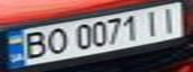0: (72, 21, 93, 51), (90, 18, 109, 47)
1: (121, 12, 142, 42)
7: (106, 15, 127, 44)
B: (15, 29, 51, 61)
I: (154, 3, 184, 34), (139, 8, 166, 36)
O: (42, 26, 69, 55)
